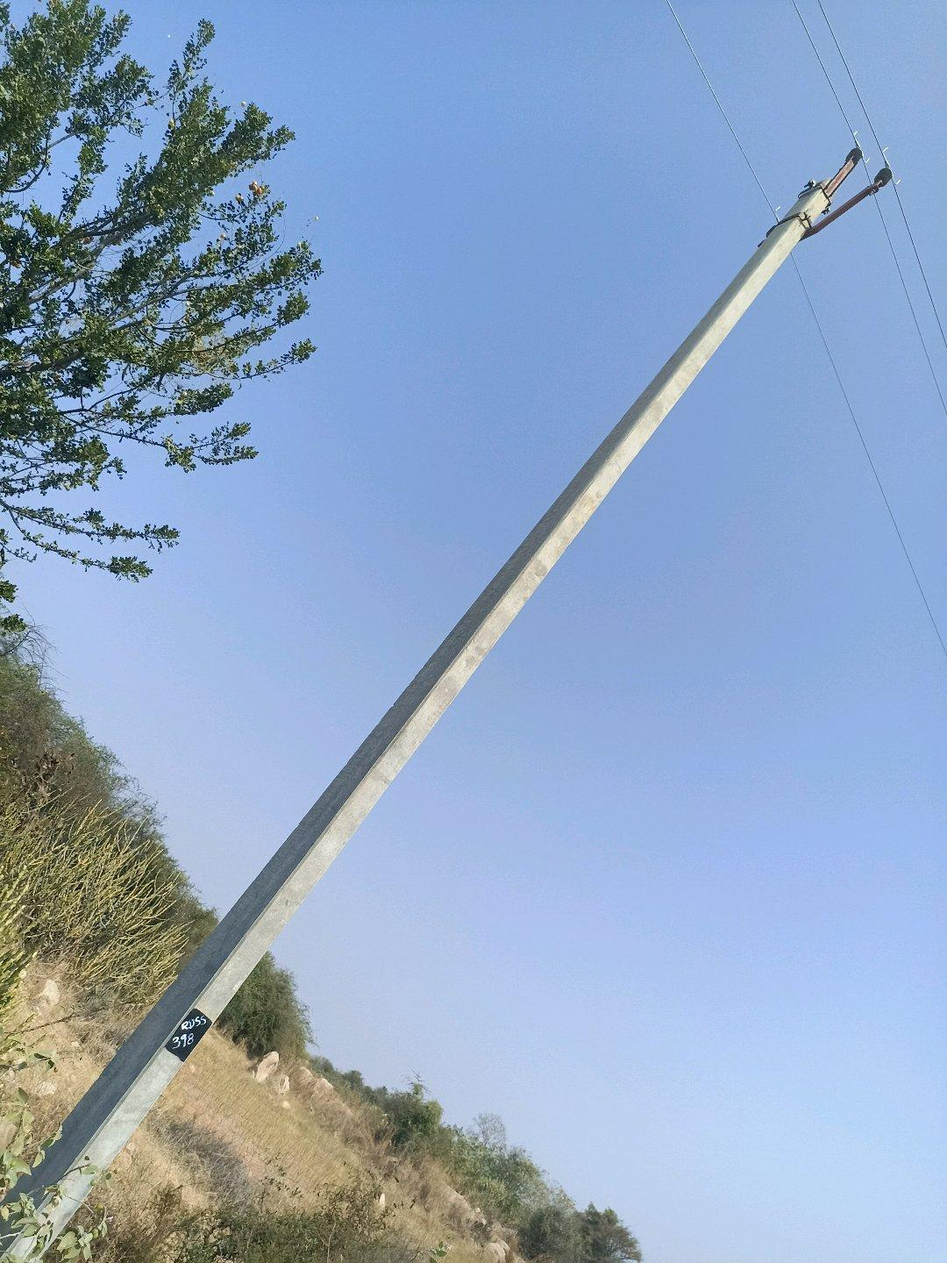{"0" "insulator", "1" "pole", "2" "crossarm", "3" "conductor", "4" "street_: (7, 150, 890, 1231), (4, 1233, 30, 1257), (5, 1229, 13, 1236)
